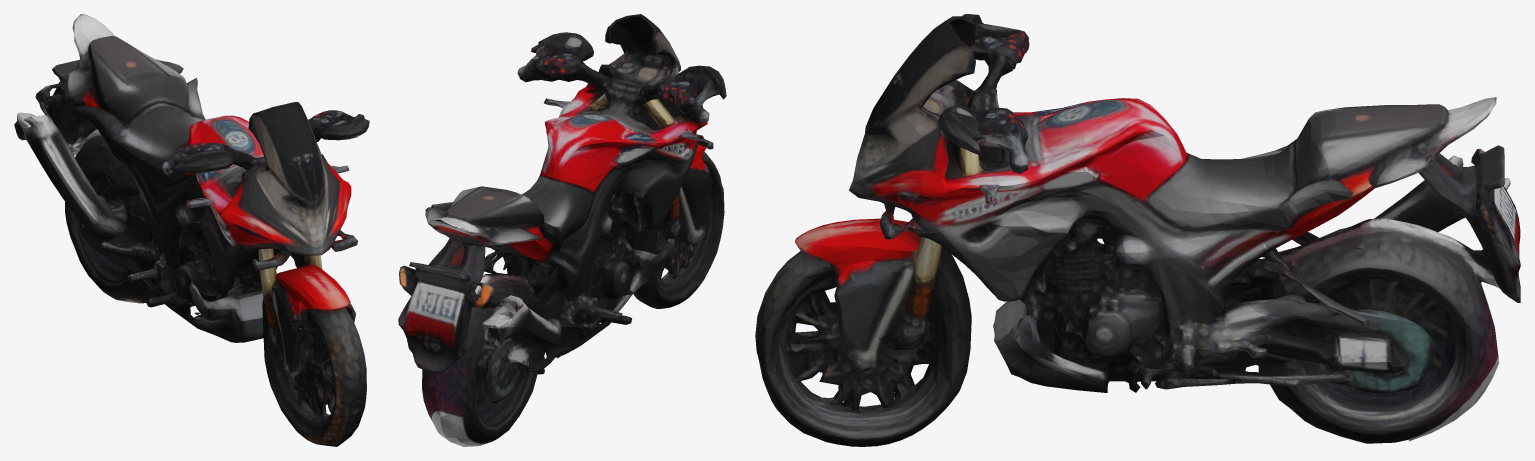
Rendered from HONEST CB200X.glb.
3 views of the same model, side by side, from view 1: azimuth 30°, elevation 25°; view 2: azimuth 150°, elevation 25°; view 3: azimuth 270°, elevation 25° (orthographic). The views are drawn at different scales.
Parts seen in each view (by area): view 1: world; view 2: world; view 3: world.
Boxes of the visible parts, left/top/right/bottom form: world: left=14, top=14, right=369, bottom=446; world: left=398, top=14, right=726, bottom=446; world: left=755, top=14, right=1520, bottom=446.
Size of the model in its own units: 0.4002 by 0.613 by 0.9995.
1 material, 1 textured.
